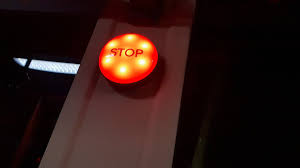bell: (93, 31, 163, 86)
